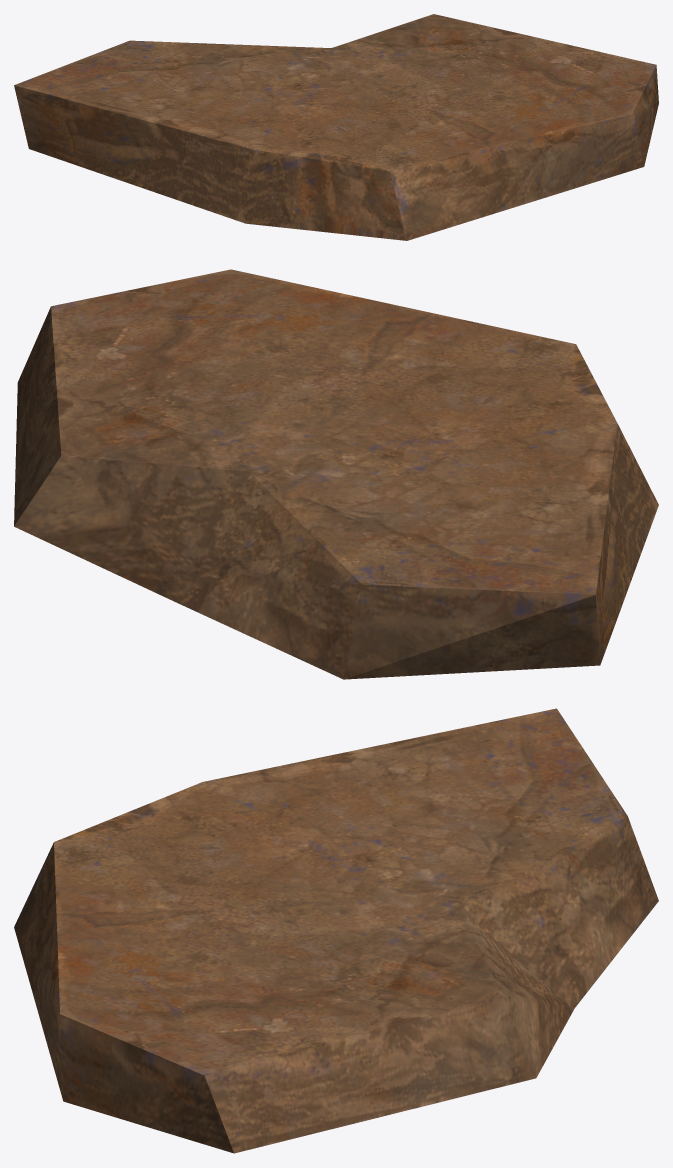
File: Rock_Shales_02_L2.fbx
3 renders of one model, top to bottom at view 1: azimuth 30°, elevation 25°; view 2: azimuth 150°, elevation 25°; view 3: azimuth 270°, elevation 25°, orthographic. The views are drawn at different scales.
Parts seen in each view (by area): view 1: polySurface252; view 2: polySurface252; view 3: polySurface252.
Boxes of the visible parts, x1,y1,x2,y2 form: polySurface252: (14,14,658,240); polySurface252: (14,269,658,679); polySurface252: (14,708,658,1153).
Size of the model in its own units: 113 by 15.03 by 86.04.
